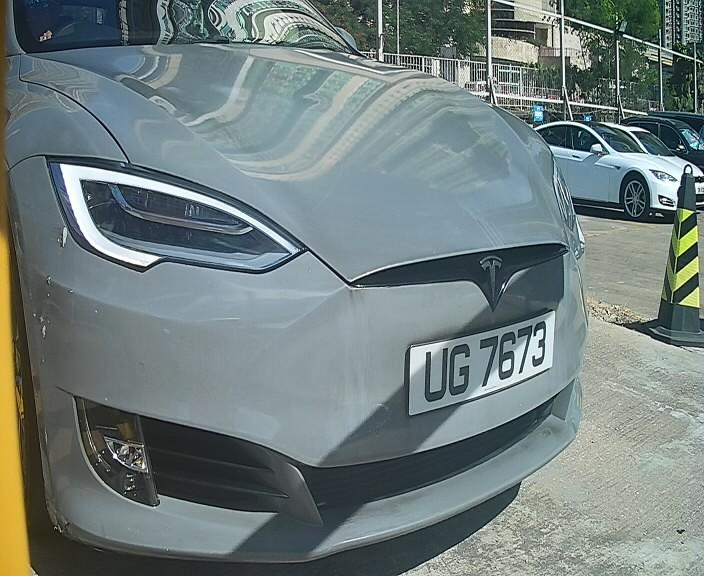License Plate: (393, 309, 551, 420)
